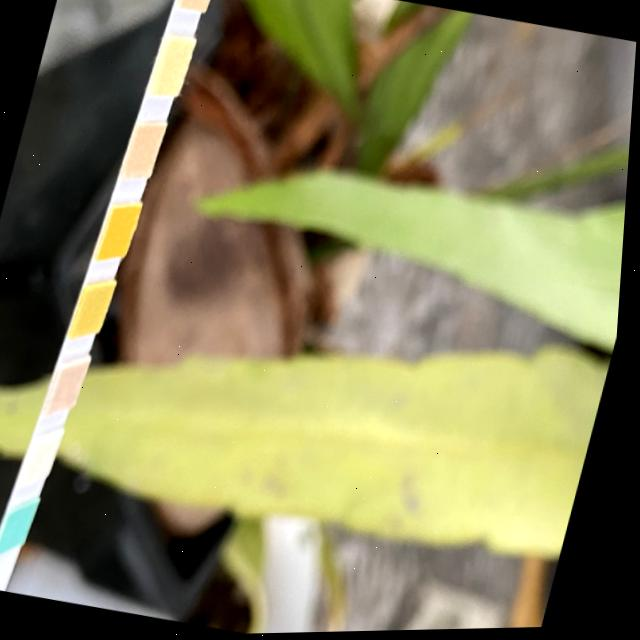Bilirubin: (32, 439, 63, 475)
Blood: (103, 209, 138, 258)
Glucose: (8, 513, 35, 544)
Ketone: (58, 367, 90, 407)
Protein: (152, 36, 193, 96)
SpGravity: (79, 288, 112, 333)
Urobilinogen: (179, 0, 214, 13)
pH: (128, 125, 165, 178)
